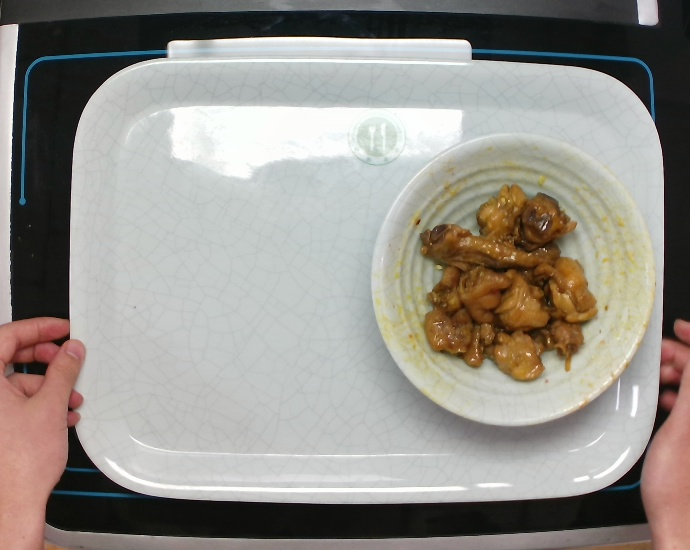JYsf-Xiao_Tang_Wan: (366, 131, 656, 431)
